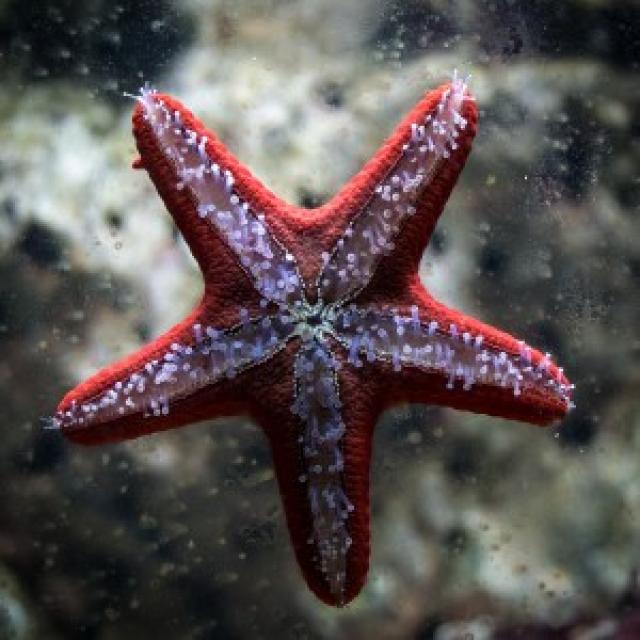Starfish: (44, 44, 587, 608)
